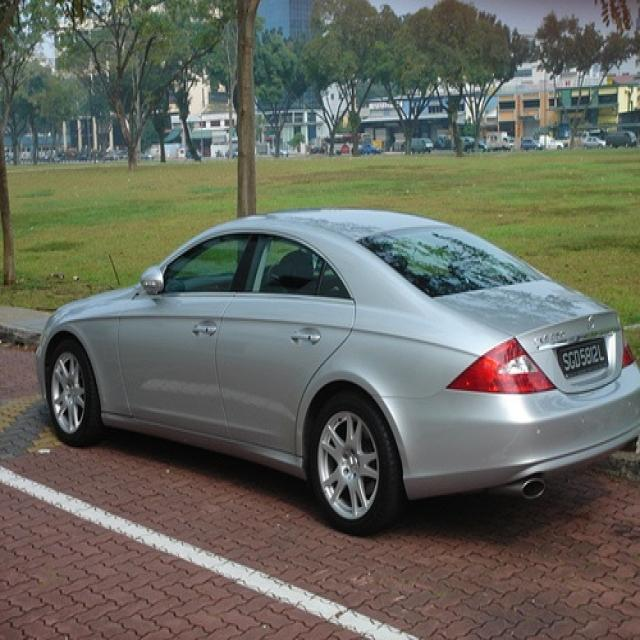car: (33, 203, 639, 534)
